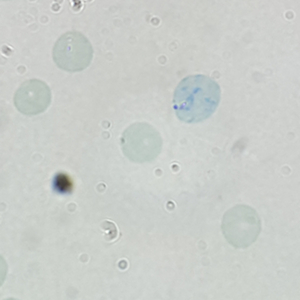aggregate reticulocyte: (171, 72, 223, 124)
erythrocyte: (118, 120, 165, 165), (50, 29, 96, 74), (220, 203, 263, 250), (11, 77, 53, 118)
